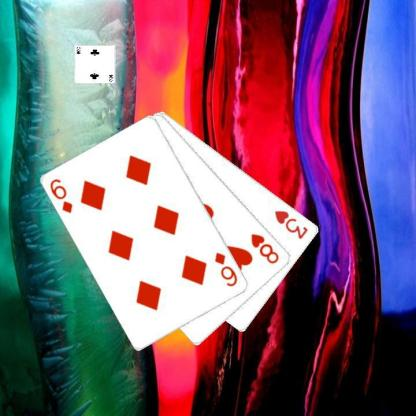3H: (272, 207, 310, 240)
6D: (212, 250, 239, 288), (48, 176, 74, 215)
8H: (248, 231, 281, 265)
